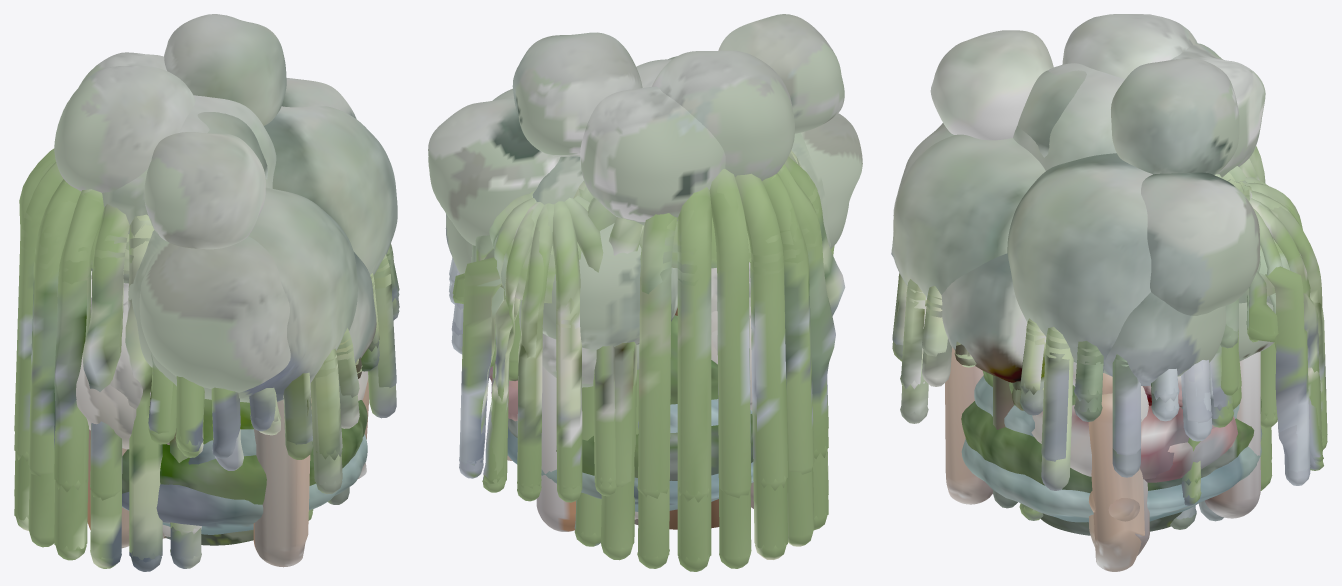
File: kit-props.glb
3 views of the same model, side by side, from view 1: azimuth 30°, elevation 25°; view 2: azimuth 150°, elevation 25°; view 3: azimuth 270°, elevation 25° (orthographic). The views are drawn at different scales.
Visible parts, largest first — view 1: tree-cube-large, tree-willow-b, tree-cube-small, tree-willow-a, fence-a, dome-knit-teal, dome-knit-green, dog-b, dog-a, fence-b, bush-round-light; view 2: tree-willow-b, tree-cube-large, tree-willow-a, tree-cube-small, fence-a, dome-knit-green, dome-knit-teal, dog-a, dog-b; view 3: tree-cube-large, tree-cube-small, tree-willow-b, tree-willow-a, dome-knit-teal, fence-a, fence-c, dome-knit-green, dog-b, dog-a, fence-b, bush-round-light.
Part boxes in pixels (x1,y1,x2,y2): tree-cube-large: [54, 14, 376, 395]; tree-willow-b: [14, 158, 399, 559]; tree-cube-small: [91, 95, 397, 402]; tree-willow-a: [14, 148, 399, 571]; fence-a: [253, 396, 311, 567]; dome-knit-teal: [122, 414, 367, 534]; dome-knit-green: [122, 399, 367, 504]; dog-b: [76, 297, 368, 536]; dog-a: [90, 283, 150, 409]; fence-b: [87, 429, 129, 548]; bush-round-light: [165, 529, 253, 545]; tree-willow-b: [449, 150, 845, 528]; tree-cube-large: [428, 14, 862, 387]; tree-willow-a: [449, 151, 828, 571]; tree-cube-small: [492, 59, 830, 529]; fence-a: [536, 366, 575, 531]; dome-knit-green: [508, 315, 753, 480]; dome-knit-teal: [507, 399, 753, 511]; dog-a: [490, 262, 750, 518]; dog-b: [489, 281, 752, 519]; tree-cube-large: [893, 14, 1274, 386]; tree-cube-small: [891, 63, 1272, 372]; tree-willow-b: [892, 172, 1327, 519]; tree-willow-a: [892, 146, 1327, 529]; dome-knit-teal: [961, 375, 1262, 522]; fence-a: [945, 348, 1260, 518]; fence-c: [1088, 393, 1144, 571]; dome-knit-green: [961, 371, 1261, 492]; dog-b: [1031, 362, 1216, 479]; dog-a: [1144, 376, 1237, 482]; fence-b: [1089, 373, 1149, 555]; bush-round-light: [1040, 512, 1181, 535].
Bounding box in the file's own units: 1.53 × 1.93 × 1.65.
